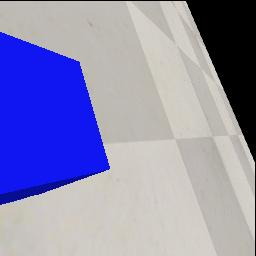box: (0, 31, 111, 205)
